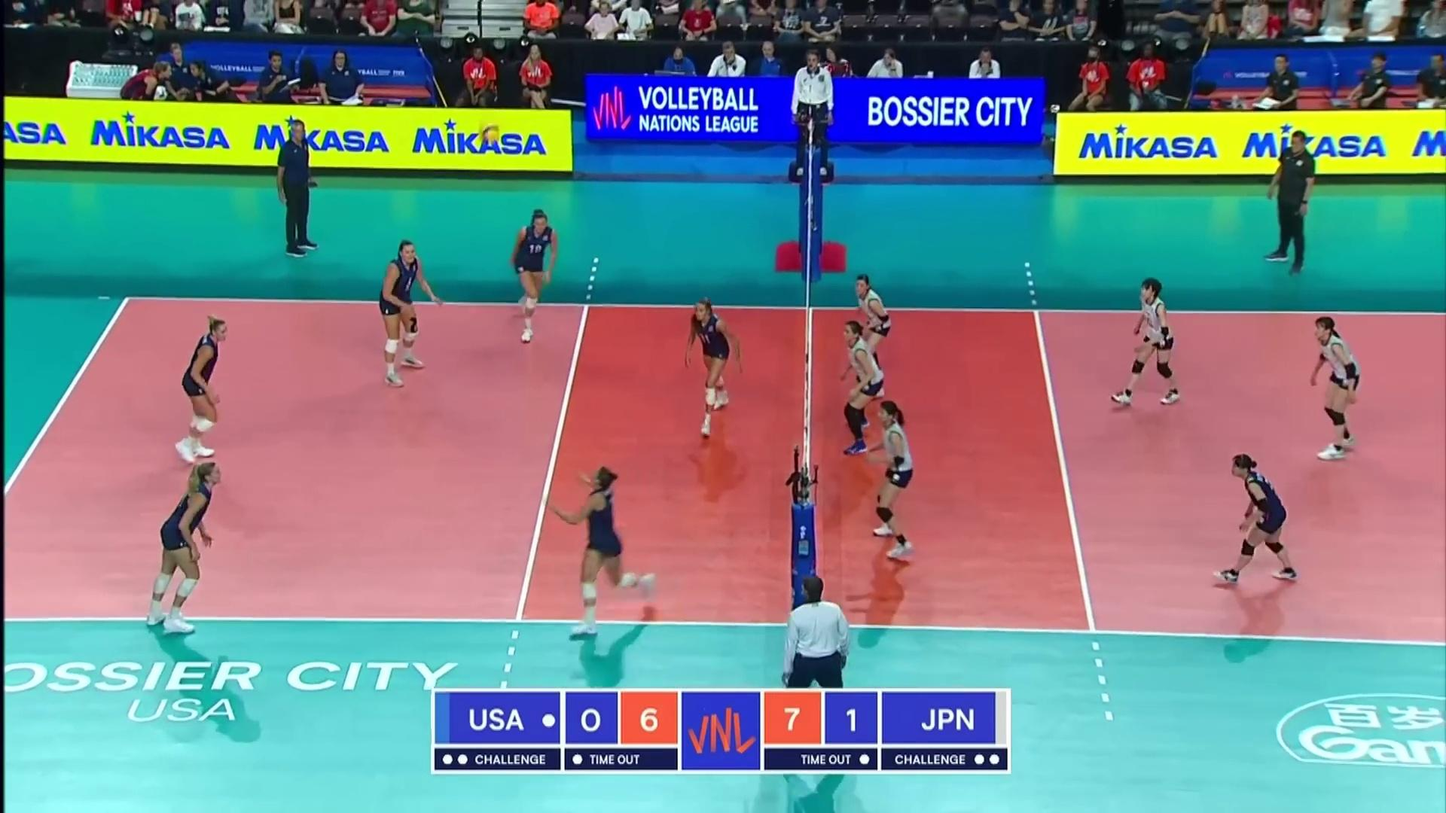player: (564, 467, 660, 637), (144, 462, 224, 635), (1216, 454, 1303, 583), (1112, 280, 1185, 408), (375, 239, 437, 387), (174, 314, 233, 466), (683, 298, 746, 440), (1304, 319, 1365, 458), (871, 400, 920, 563), (512, 207, 559, 349), (837, 320, 884, 456), (851, 275, 892, 399)
refree: (782, 578, 853, 693), (790, 50, 834, 178)
